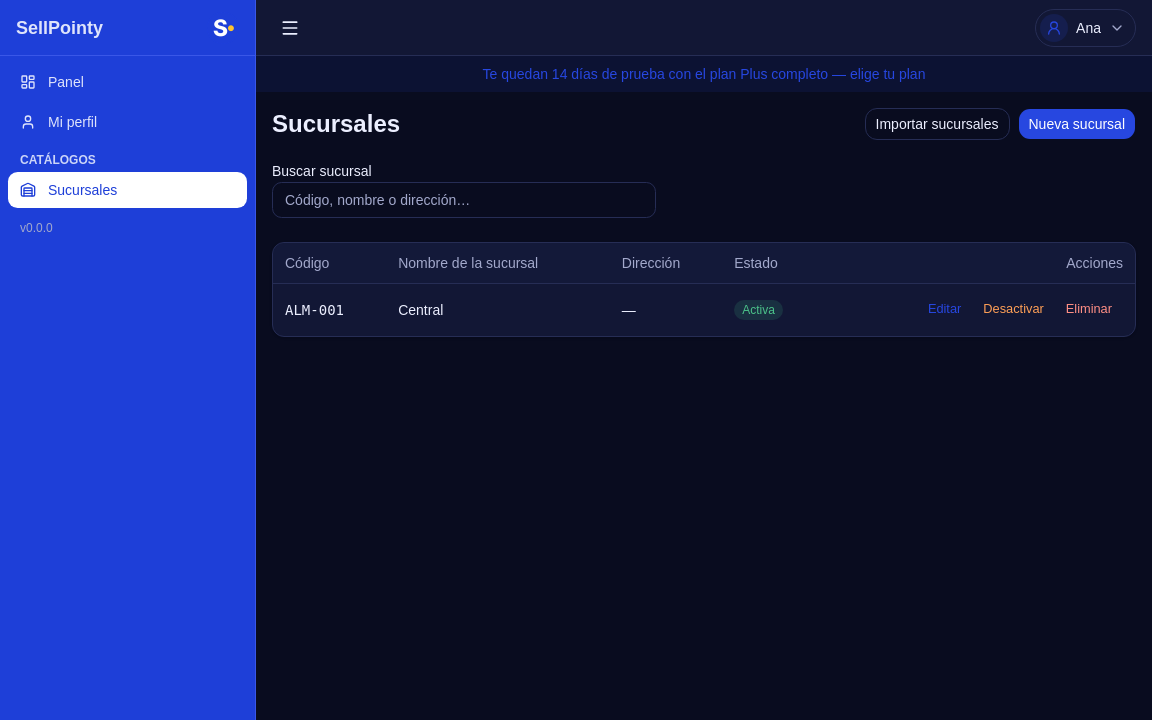
Test: Eliminar una sucursal (2026-08-25) › el primer clic PREGUNTA nombrando la sucursal; nada viaja todavía
Expected: the text "Central" is shown, x1=386 y1=283 x2=610 y2=336
Click the button "Eliminar" at x=1089, y=310, box x1=1055 y1=296 x2=1123 y2=324
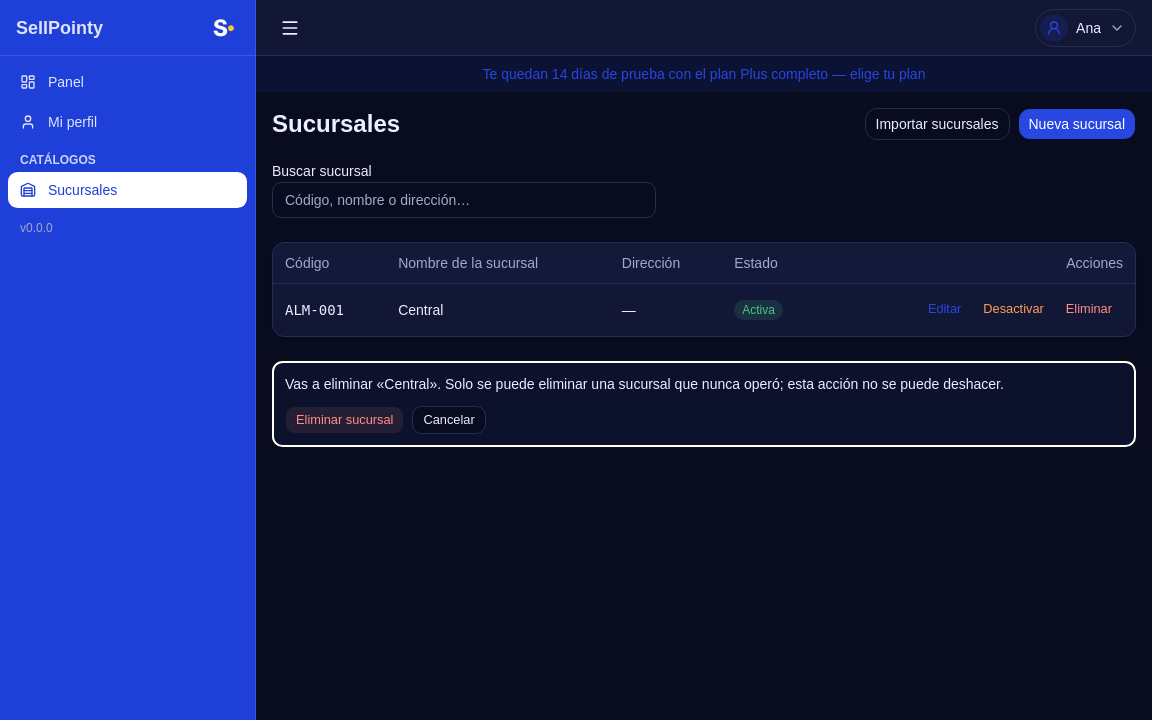
Result: the dialog with test id "delete-warehouse-dialog" shows "Central" at x1=285 y1=376 x2=1004 y2=392
